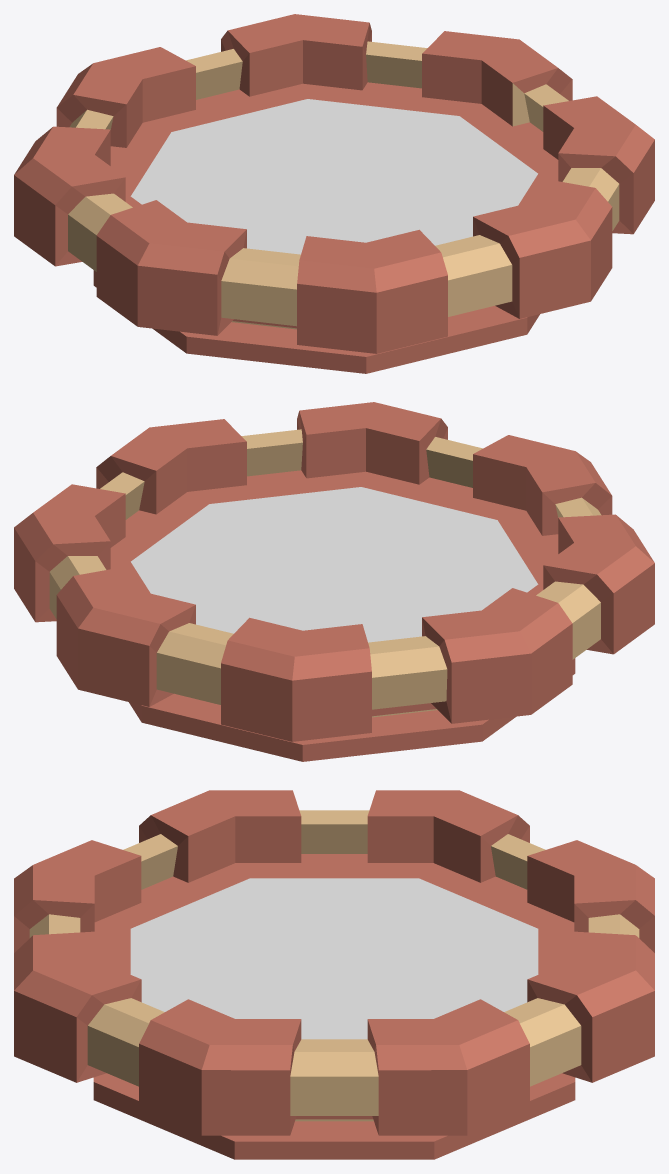
The model's file is Yeeter.fbx.
3 renders of one model, top to bottom at view 1: azimuth 30°, elevation 25°; view 2: azimuth 150°, elevation 25°; view 3: azimuth 270°, elevation 25°, orthographic. The views are drawn at different scales.
Parts seen in each view (by area): view 1: Cylinder; view 2: Cylinder; view 3: Cylinder.
Boxes of the visible parts, x1=… form: Cylinder: x1=14, y1=14, x2=654, y2=373; Cylinder: x1=14, y1=402, x2=654, y2=761; Cylinder: x1=14, y1=790, x2=654, y2=1159.
Bounding box in the file's own units: 702 × 170 × 702.
